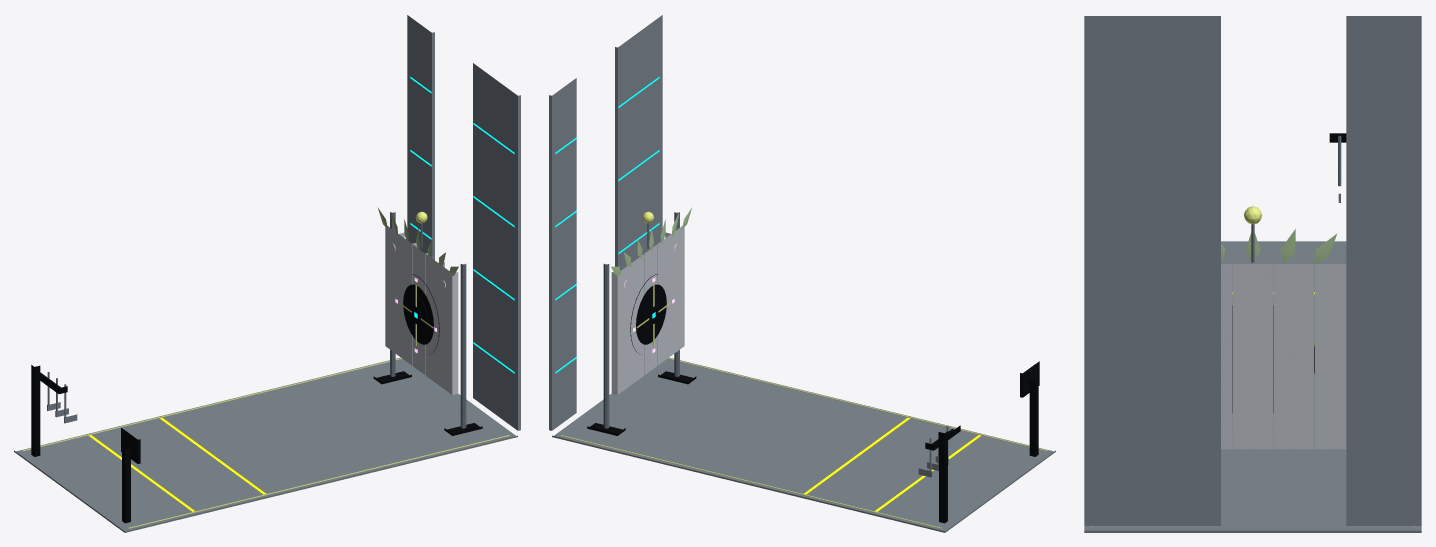
Rendered from tt_axe_bay_tree.glb.
3 views of the same model, side by side, from view 1: azimuth 30°, elevation 25°; view 2: azimuth 150°, elevation 25°; view 3: azimuth 270°, elevation 25° (orthographic). The views are drawn at different scales.
Parts seen in each view (by area): view 1: Floor_Mat, Wall_Lining, Target_Boards, Target_Rings, Target_Posts, Court_Inlay, Rack_Post, Throw_Lines, Tablet_Post; view 2: Floor_Mat, Wall_Lining, Target_Boards, Target_Rings, Target_Posts, Court_Inlay, Rack_Post, Tablet_Post, Throw_Lines; view 3: Wall_Lining, Target_Boards, Floor_Mat, Target_LeafCrown.
Boxes of the visible parts, x1,y1,x2,y2 form: Floor_Mat: (14,357,517,532); Wall_Lining: (407,15,520,430); Target_Boards: (385,226,458,394); Target_Rings: (403,274,439,354); Target_Posts: (390,212,466,428); Court_Inlay: (22,358,509,528); Rack_Post: (31,365,40,456); Throw_Lines: (88,417,266,511); Tablet_Post: (122,446,130,523); Floor_Mat: (552,357,1055,532); Wall_Lining: (549,15,662,430); Target_Boards: (611,226,684,394); Target_Rings: (630,274,666,354); Target_Posts: (603,212,679,428); Court_Inlay: (560,358,1047,528); Rack_Post: (939,431,947,523); Tablet_Post: (1029,380,1038,456); Throw_Lines: (803,417,981,511); Wall_Lining: (1084,16,1421,525); Target_Boards: (1221,264,1346,449); Floor_Mat: (1084,241,1421,532); Target_LeafCrown: (1221,229,1346,263).
Size of what is drawn, in the model's own units: 6.8 by 5.6 by 3.3.
Materials: 12 (5 with a texture image).
